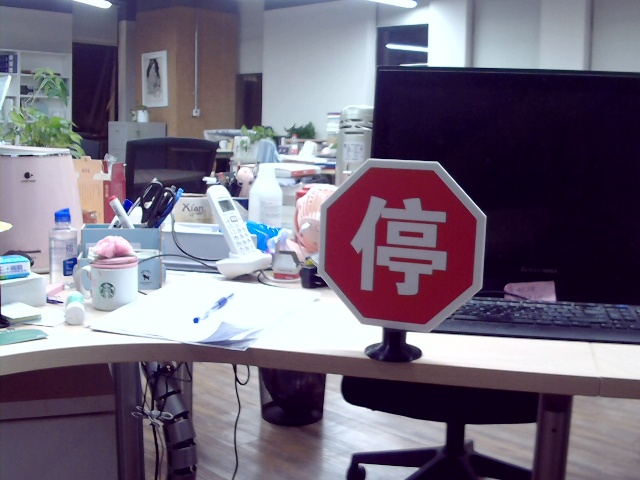stop: (351, 192, 449, 297)
